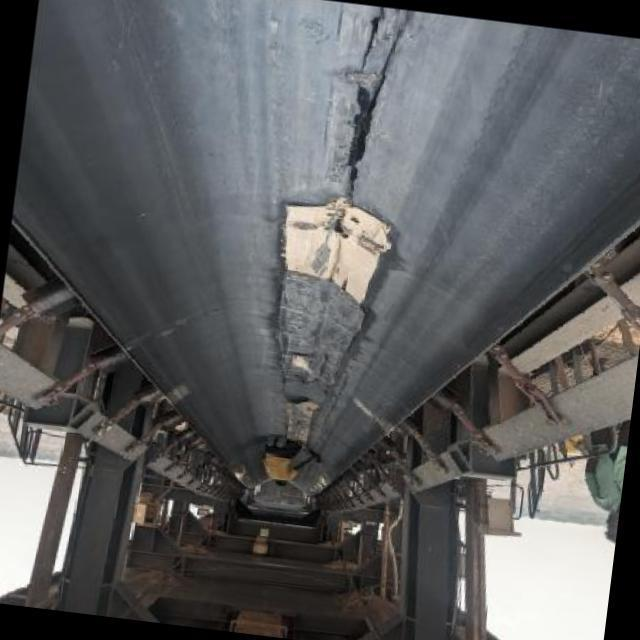Tear: (342, 8, 414, 207), (352, 8, 394, 72)
